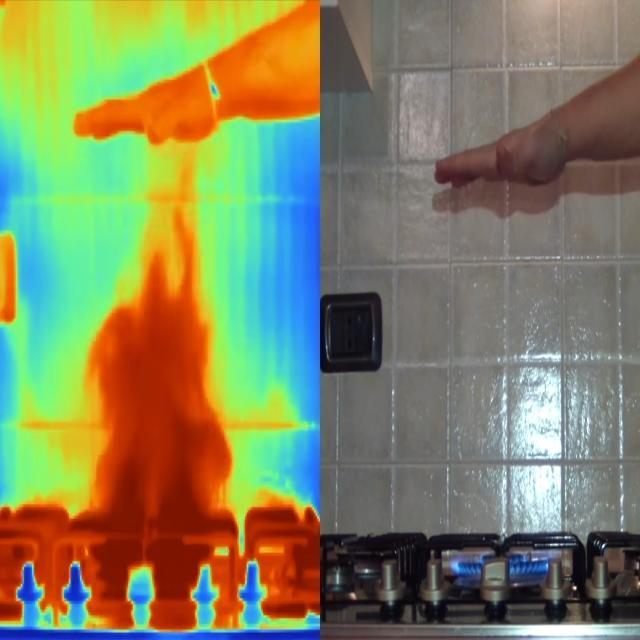fire: (83, 482, 225, 625)
